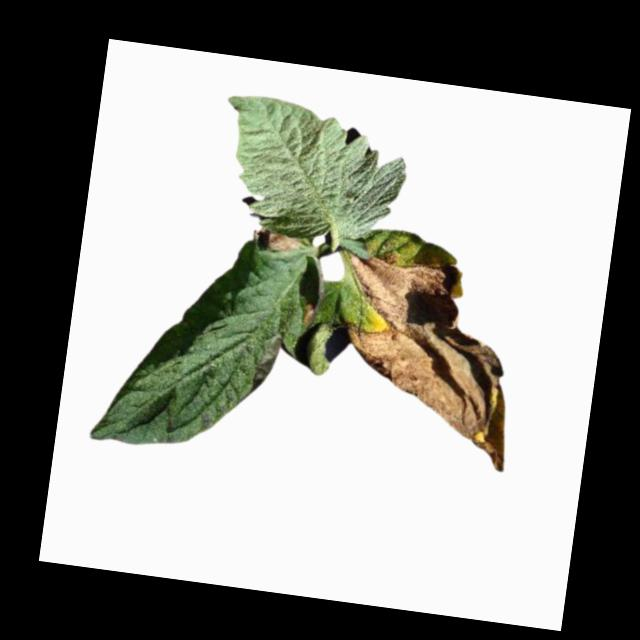Late_blight: (316, 243, 530, 473), (249, 328, 283, 396), (249, 225, 304, 258), (297, 300, 319, 329)
